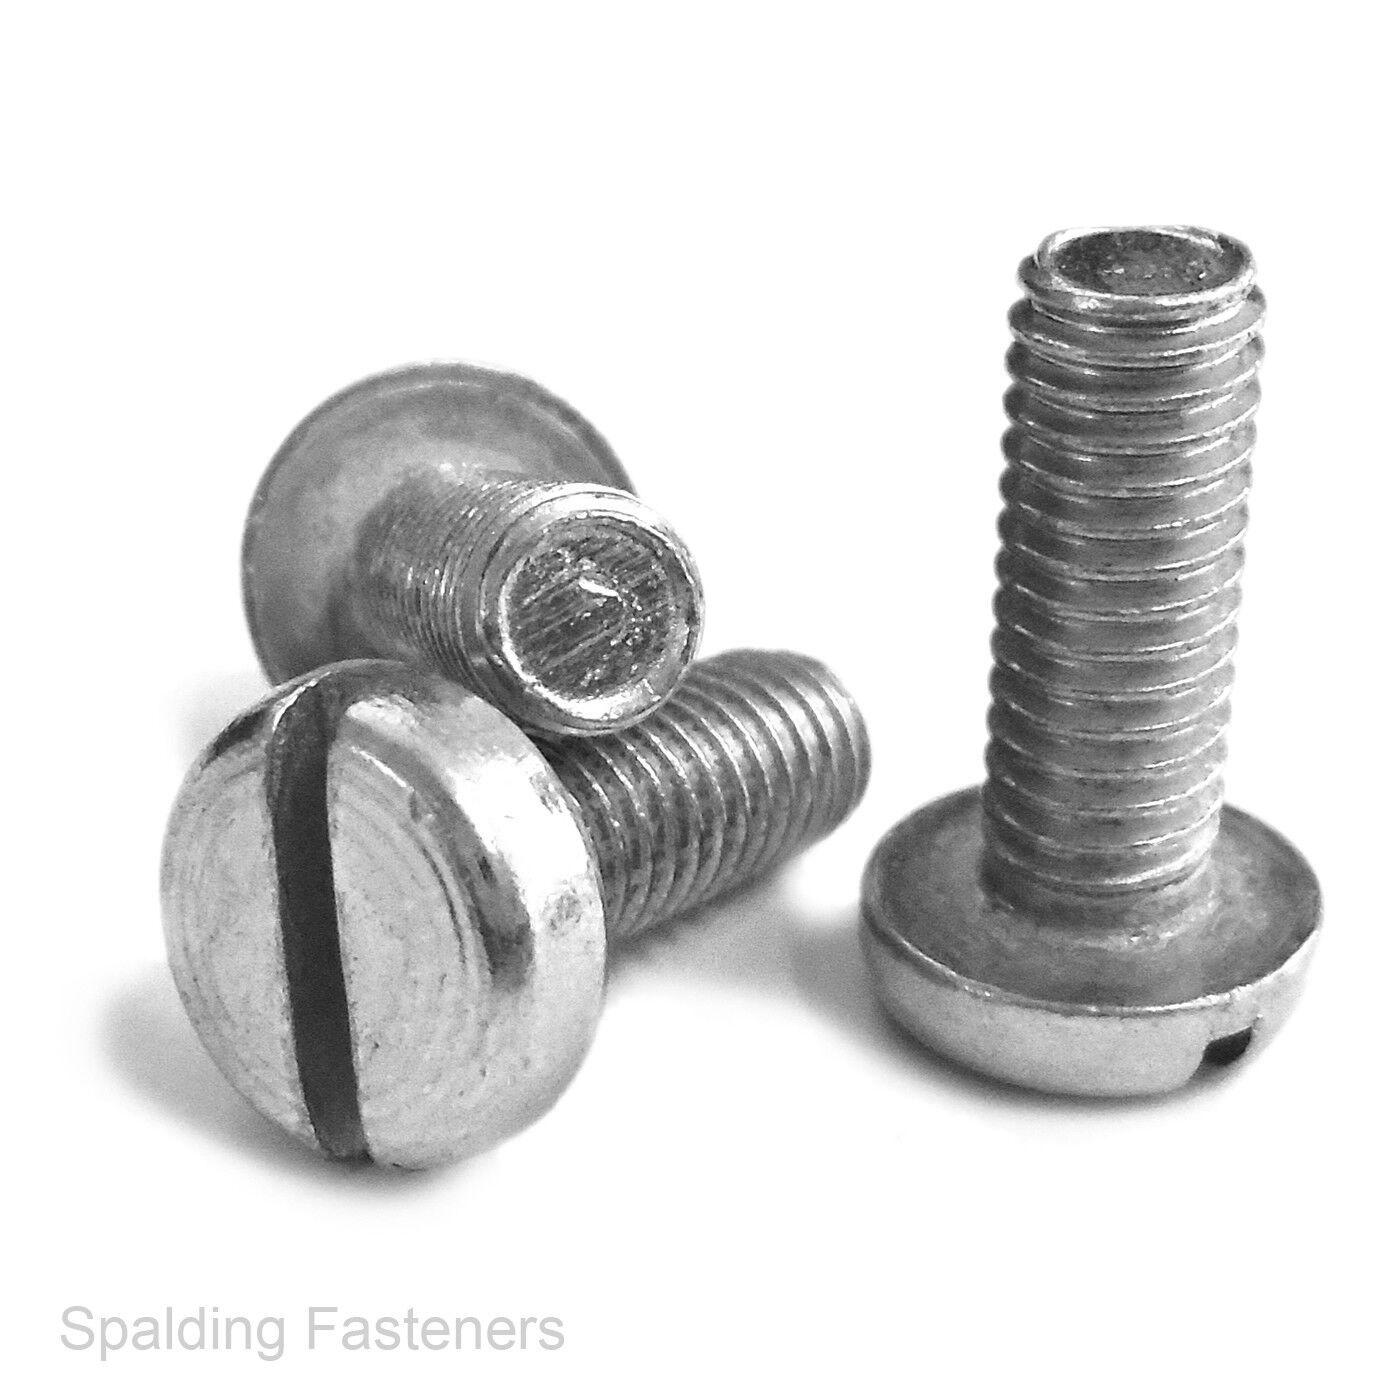slotted: (154, 660, 592, 1186)
